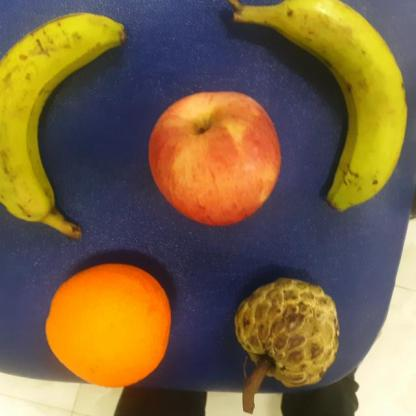annona: (236, 272, 351, 390)
apple: (142, 88, 286, 230)
banana: (0, 13, 131, 231), (279, 0, 412, 213)
orange: (40, 253, 173, 385)
